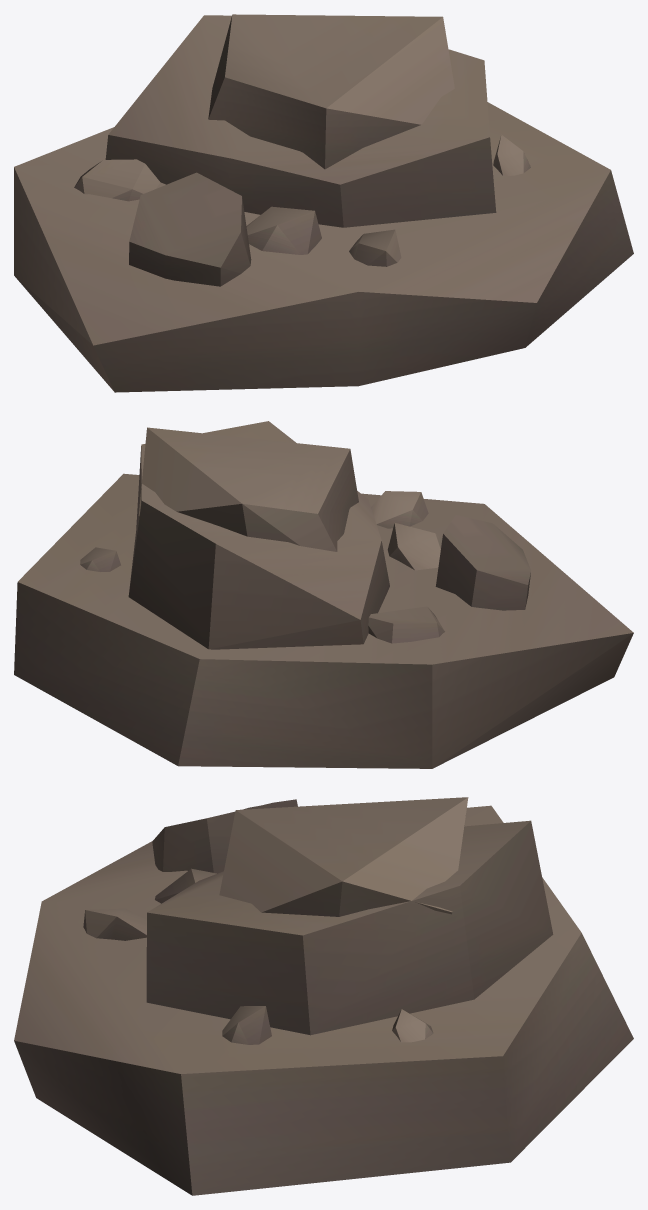
Rendered from rocks_small.glb.
3 renders of one model, top to bottom at view 1: azimuth 30°, elevation 25°; view 2: azimuth 150°, elevation 25°; view 3: azimuth 270°, elevation 25°, orthographic. The views are drawn at different scales.
Visible parts, largest first — view 1: rocks_small; view 2: rocks_small; view 3: rocks_small.
Boxes of the visible parts, bbox=[...] form: rocks_small: bbox=[14, 14, 633, 392]; rocks_small: bbox=[14, 421, 633, 768]; rocks_small: bbox=[14, 797, 633, 1195].
Size of the model in its own units: 2.15 by 0.8134 by 1.86.
1 material, 1 textured.
